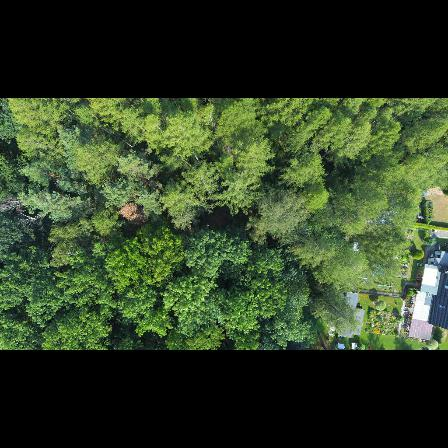Dead: (15, 210, 48, 231), (0, 193, 29, 215)
